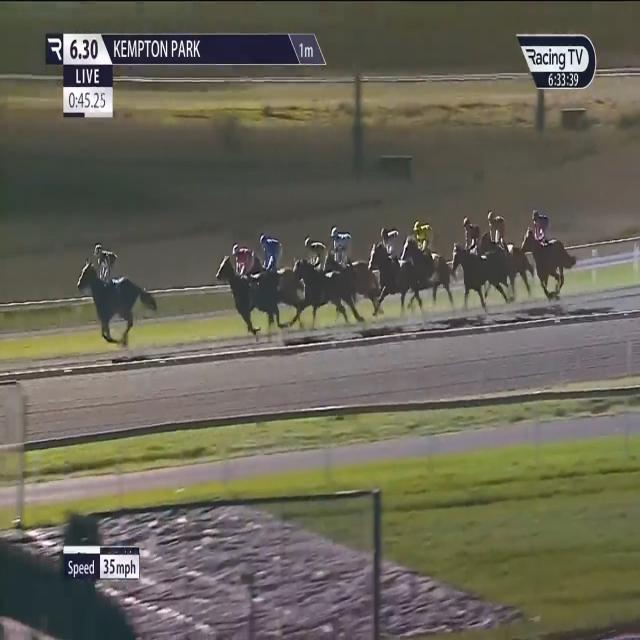horses-racing: (77, 241, 156, 350), (214, 243, 282, 328), (402, 217, 458, 305), (522, 205, 576, 295), (367, 226, 420, 308), (323, 224, 374, 309), (293, 237, 347, 317), (483, 209, 532, 294), (255, 235, 304, 320), (454, 219, 498, 309)
